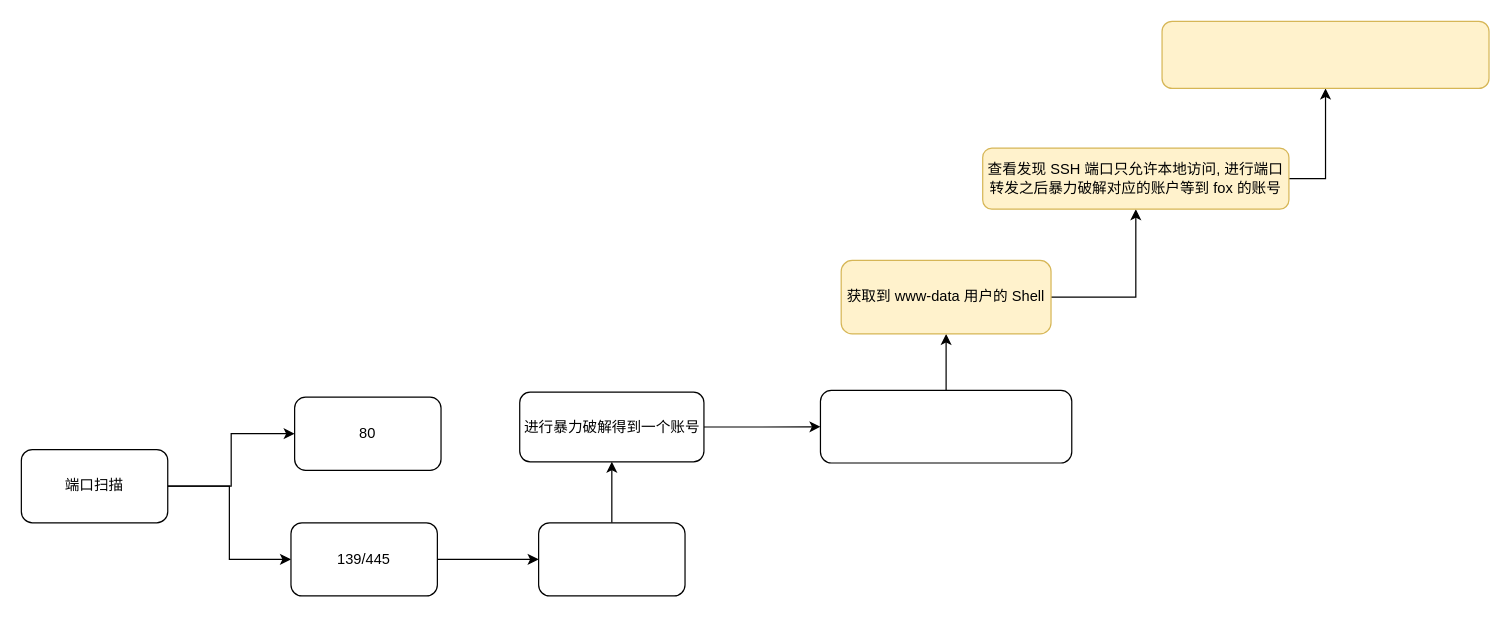
The diagram is 1510 pixels wide and 617 high, and some of its shapes have lost their labels. Each missing label, with the centre of its shape:
枚举到两个用户名: point (611, 559)
用户存在 SUDO 特权, 可以利用此来进行权限提升: point (1325, 54)
访问页面发现对应的是一个搜索框通过确认发现是一个命令注入漏洞: point (945, 426)
